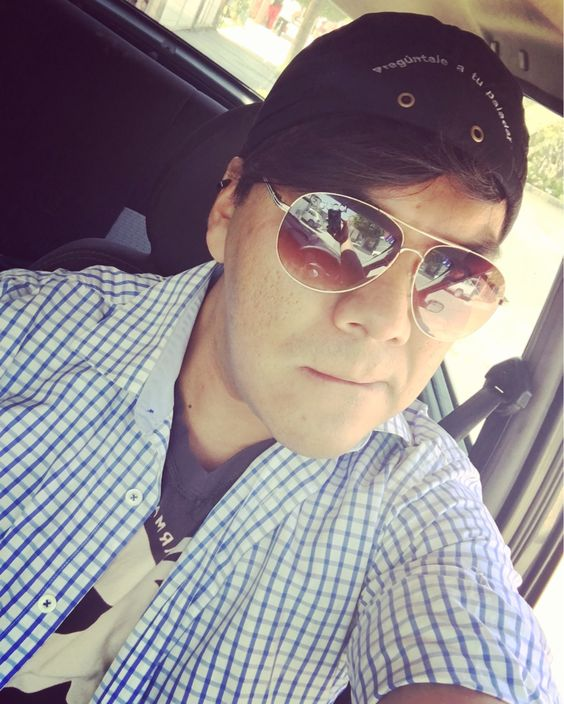sunglasses: (289, 179, 501, 335), (288, 195, 501, 335)
